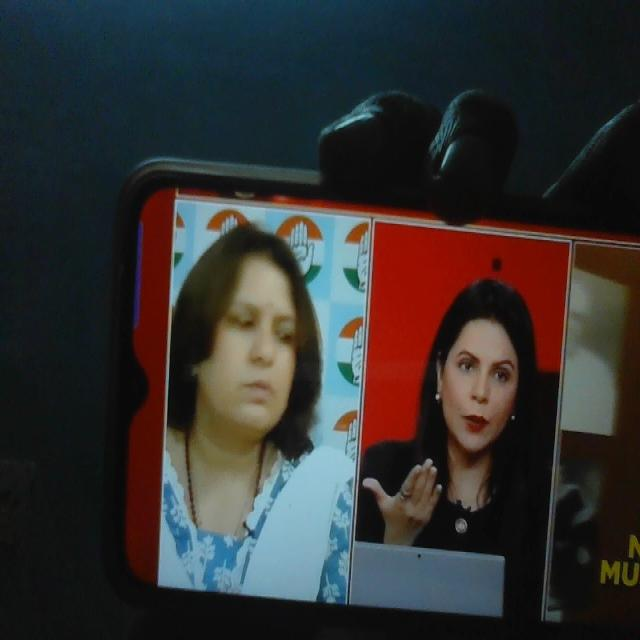fake: (192, 225, 307, 443), (424, 264, 538, 479)
